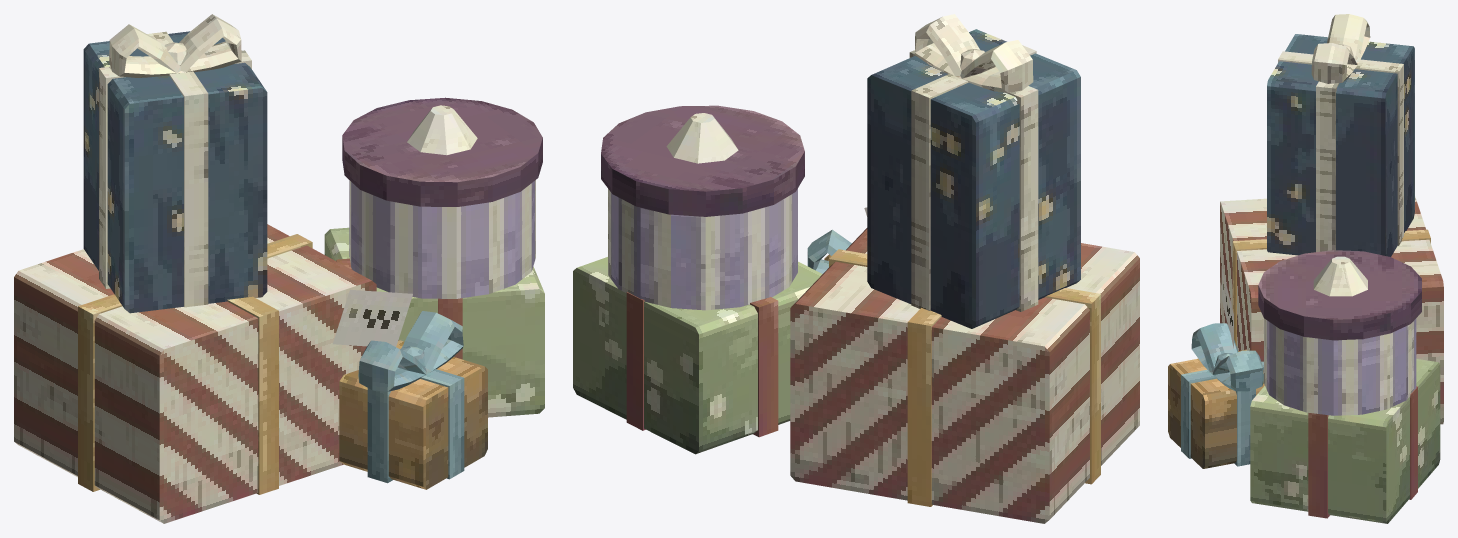
The model's file is present_pile.glb.
3 views of the same model, side by side, from view 1: azimuth 30°, elevation 25°; view 2: azimuth 150°, elevation 25°; view 3: azimuth 270°, elevation 25° (orthographic). The views are drawn at different scales.
Parts seen in each view (by area): view 1: static, small, small_loop0, small_loop1, small_rz, small_rx; view 2: static, small_loop1; view 3: static, small, small_loop1, small_loop0, small_rx, small_rz.
Boxes of the visible parts, x1,y1,x2,y2 form: static: (14, 14, 544, 523); small: (339, 340, 487, 489); small_loop0: (358, 340, 428, 391); small_loop1: (402, 311, 463, 372); small_rz: (420, 369, 464, 479); small_rx: (367, 356, 454, 483); static: (573, 14, 1139, 523); small_loop1: (807, 229, 851, 273); static: (1220, 14, 1443, 523); small: (1168, 349, 1264, 468); small_loop1: (1211, 350, 1263, 391); small_loop0: (1191, 323, 1238, 373); small_rx: (1234, 389, 1255, 466); small_rz: (1181, 361, 1263, 458).
Bounding box in the file's own units: 1.27 × 1.07 × 0.7622.
2 materials, 2 textured.
